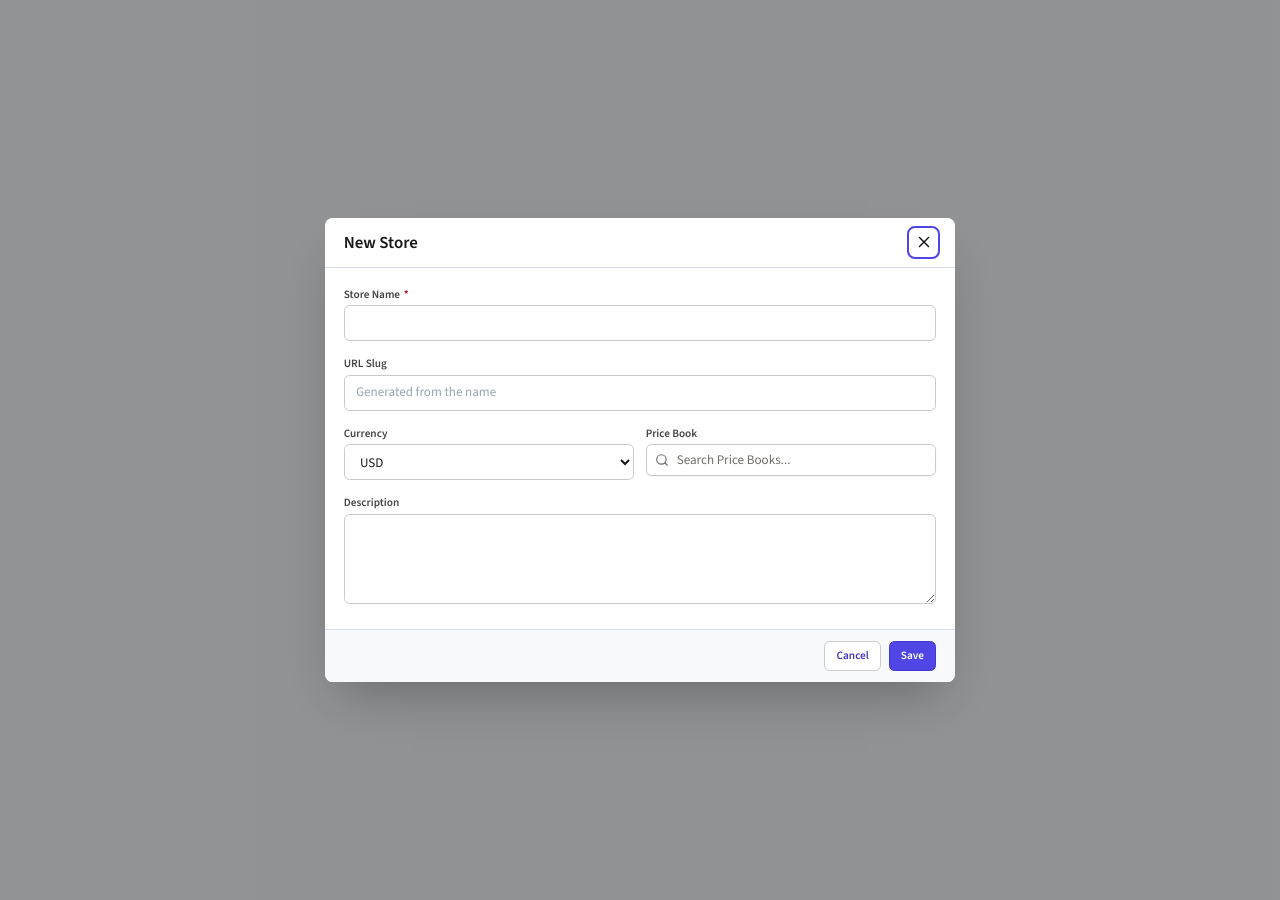
it: searchable record lookups › uses a searchable Price Book lookup in Stores
Type "Standard" into the dropdown labelled "Price Book".
click(791, 460); type("Standard")  # box [646,444,936,476]
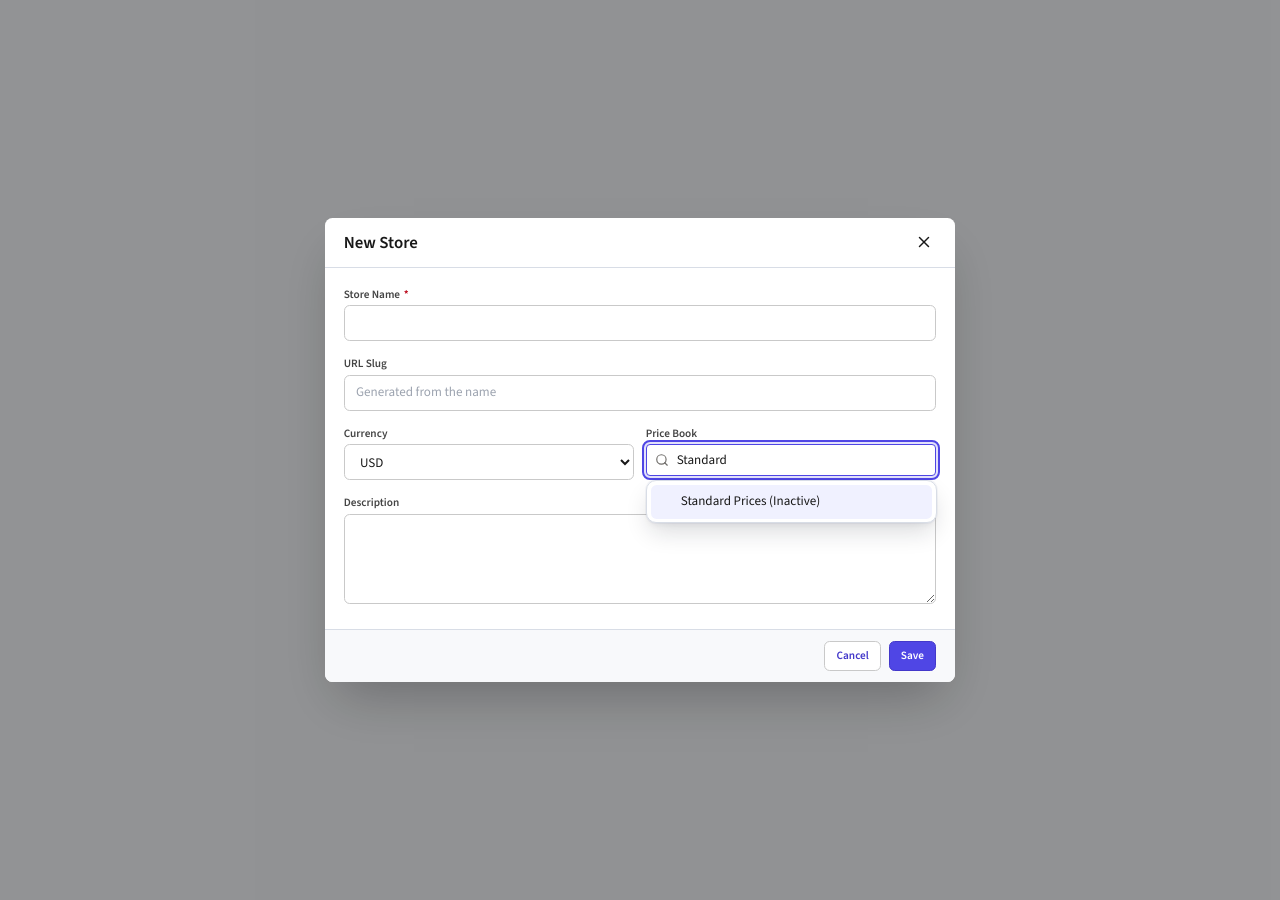
Expected: the option "Standard Prices (Inactive)" is shown, [651,485,932,519]
